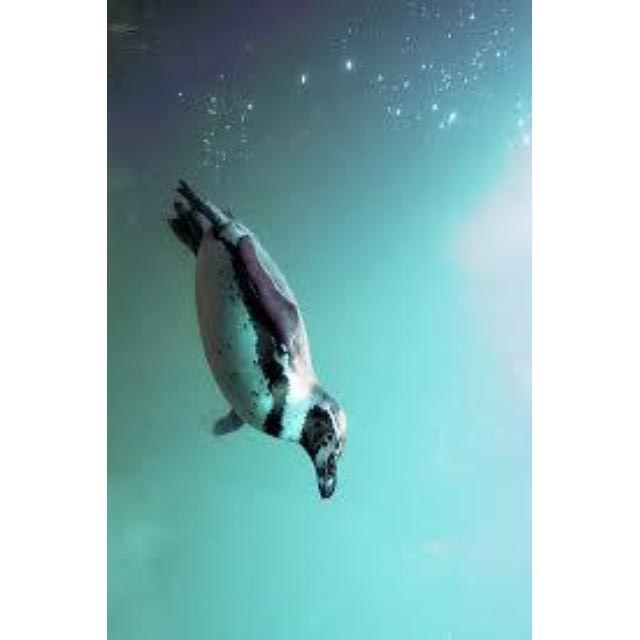penguin: (165, 175, 348, 500)
